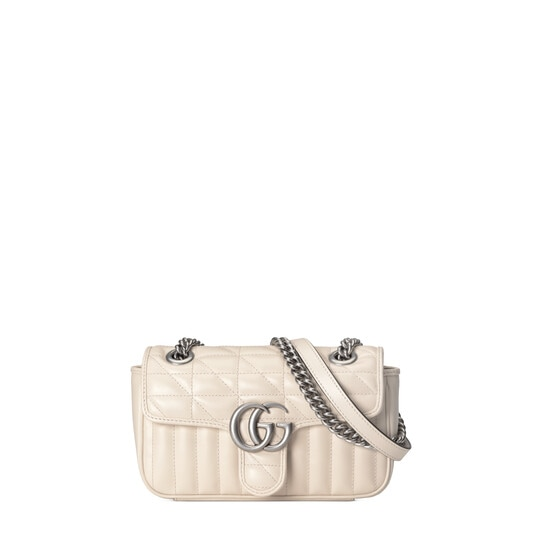Gucci: (130, 338, 409, 513), (224, 392, 303, 459)
